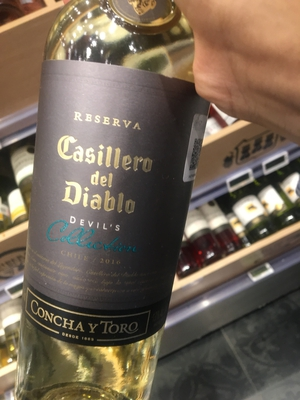casillero del diablo devils collection verde: (24, 9, 199, 400)
